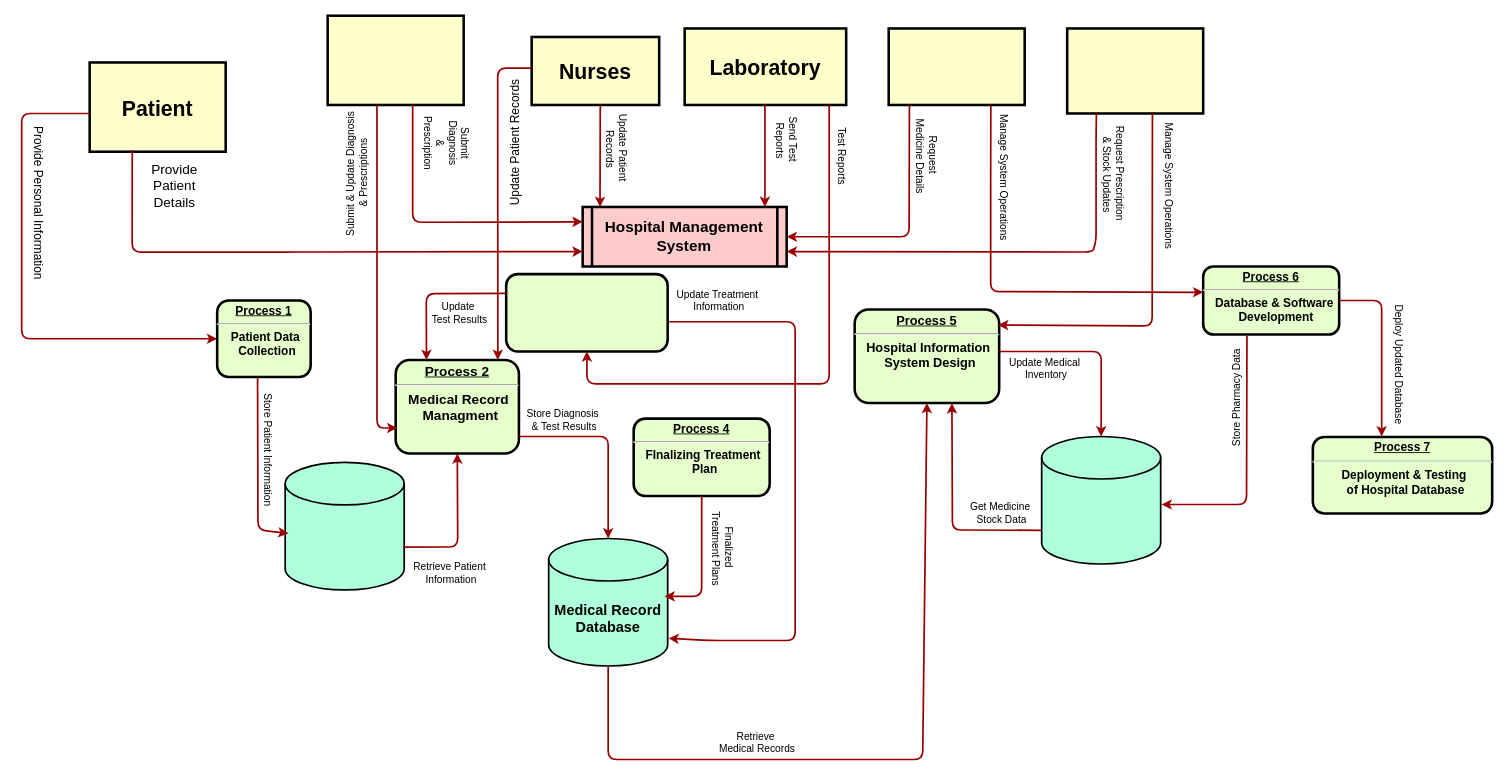
This 1508x782 diagram has some shape labels left out. Each missing label, with the box of its shape:
Doctor: (326, 14, 465, 106)
Hospital Administrator: (887, 27, 1026, 106)
Patient Database: (284, 461, 405, 590)
Pharmacy: (1065, 27, 1204, 114)
Pharmacy Database: (1040, 435, 1161, 564)
Process 3 Treatment & Diagnosis Analysis: (504, 272, 669, 352)
